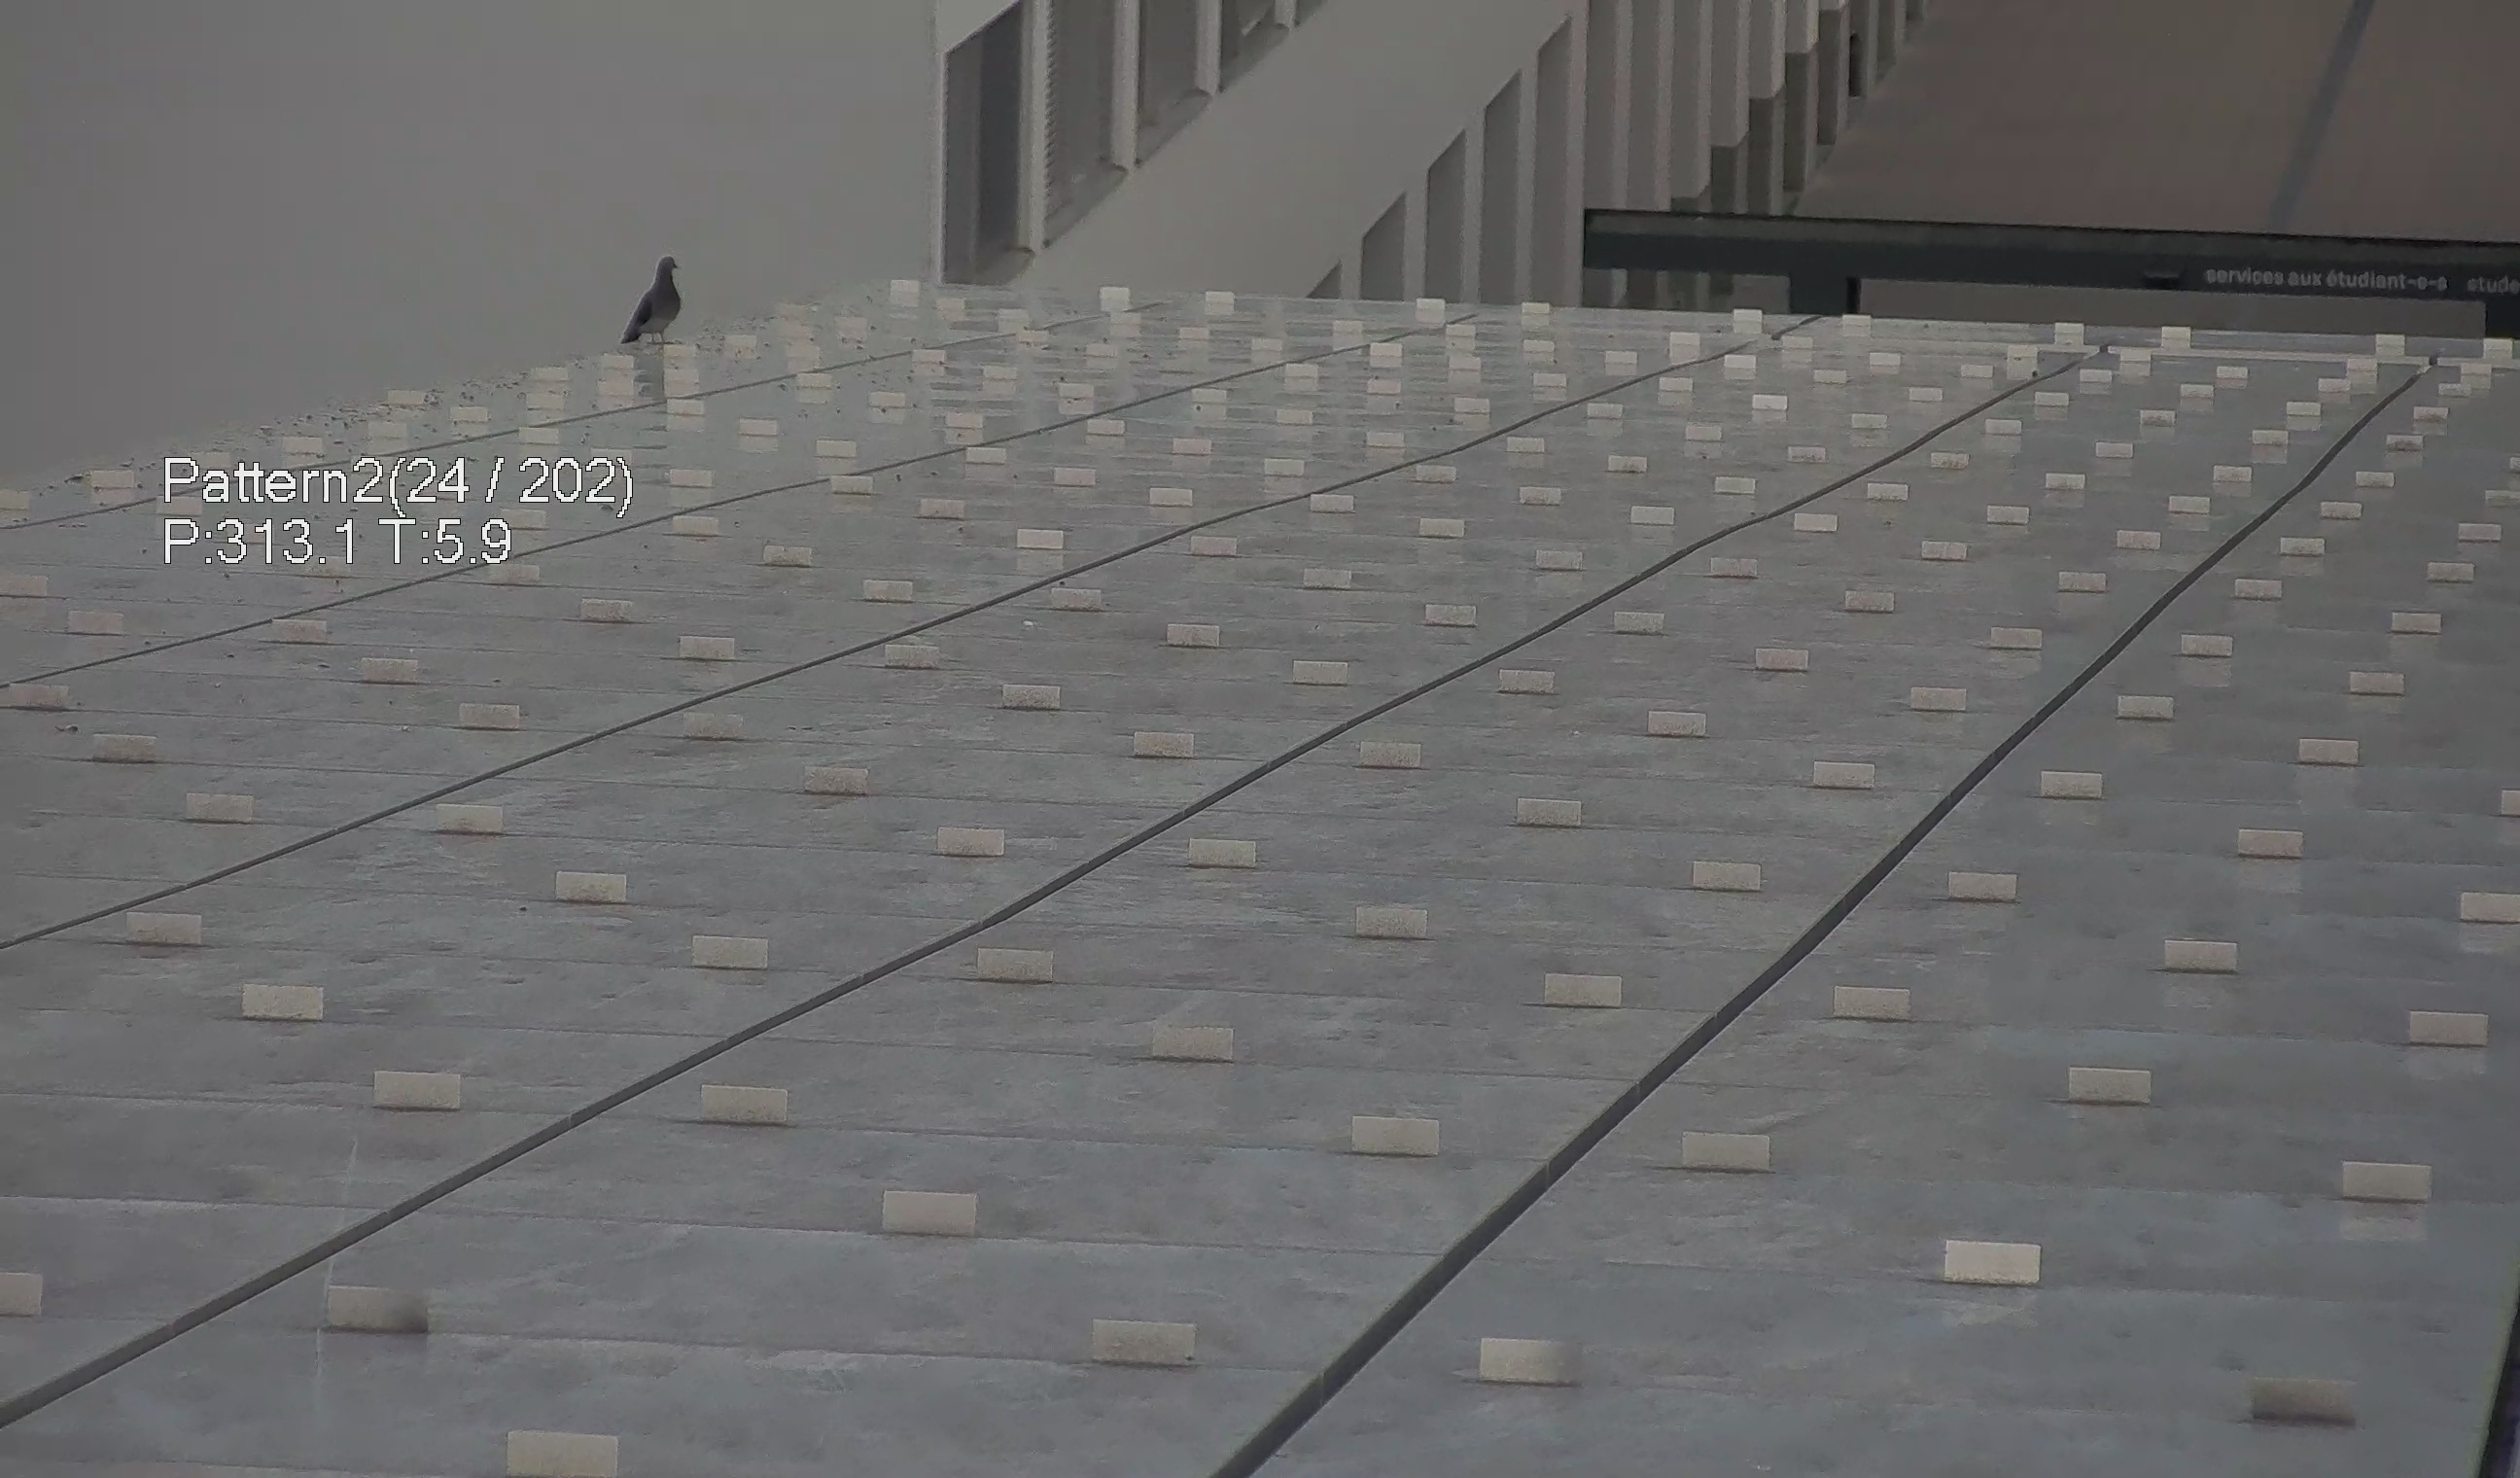Pigeon: (610, 252, 693, 355)
